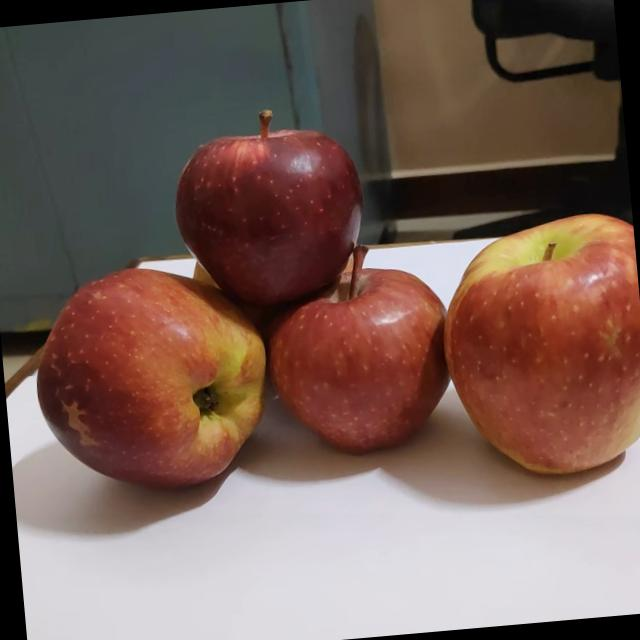apple: (17, 245, 277, 503), (417, 196, 640, 490), (156, 88, 375, 314), (254, 235, 456, 470), (180, 241, 230, 301)
